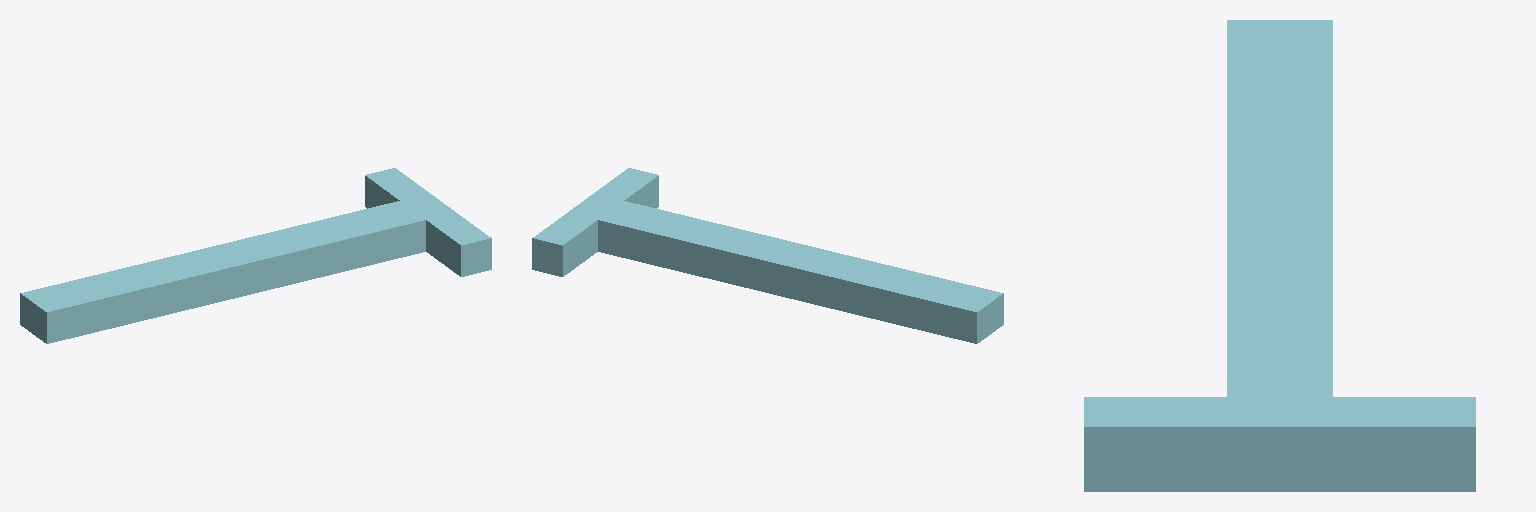
robot.urdf — cuboidal_hammer:
<?xml version="1.0"?>
<robot name="cuboidal_hammer">

  <link name="cuboidal_hammer">
    <!-- Handle -->
    <visual>
      <origin xyz="0 0 0" rpy="0 0 0"/>
      <geometry>
        <box size="0.25 0.03 0.02"/>
      </geometry>
      <material name="material">
        <color rgba="0.639 0.847 0.882 1.0"/>
      </material>
    </visual>
    <collision>
      <origin xyz="0 0 0" rpy="0 0 0"/>
      <geometry>
        <box size="0.25 0.03 0.02"/>
      </geometry>
    </collision>

    <!-- Head -->
    <visual>
      <origin xyz="0.135 0 0" rpy="0 0 0"/>
      <geometry>
        <box size="0.02 0.11 0.02"/>
      </geometry>
      <material name="material">
        <color rgba="0.639 0.847 0.882 1.0"/>
      </material>
    </visual>
    <collision>
      <origin xyz="0.135 0 0" rpy="0 0 0"/>
      <geometry>
        <box size="0.02 0.11 0.02"/>
      </geometry>
    </collision>

    <inertial>
      <density value="400.0"/>
    </inertial>
  </link>

</robot>

--- Facts derived from the render (not from the file) ---
The picture shows the robot from 3 angles, left to right: view 1: azimuth 30°, elevation 25°; view 2: azimuth 150°, elevation 25°; view 3: azimuth 270°, elevation 25°; orthographic projection.
Model cuboidal_hammer with 1 links and 0 joints (none), rooted at cuboidal_hammer, posed every joint at zero.
Links seen in each view (by area): view 1: cuboidal_hammer; view 2: cuboidal_hammer; view 3: cuboidal_hammer.
Boxes of the visible links, x1,y1,x2,y2 form: cuboidal_hammer: [20, 168, 491, 343]; cuboidal_hammer: [532, 168, 1003, 343]; cuboidal_hammer: [1084, 20, 1475, 491].
Size in the robot's own frame: 0.27 by 0.11 by 0.02 metres.
Geometry: primitives only (box / cylinder / sphere), no mesh files.
